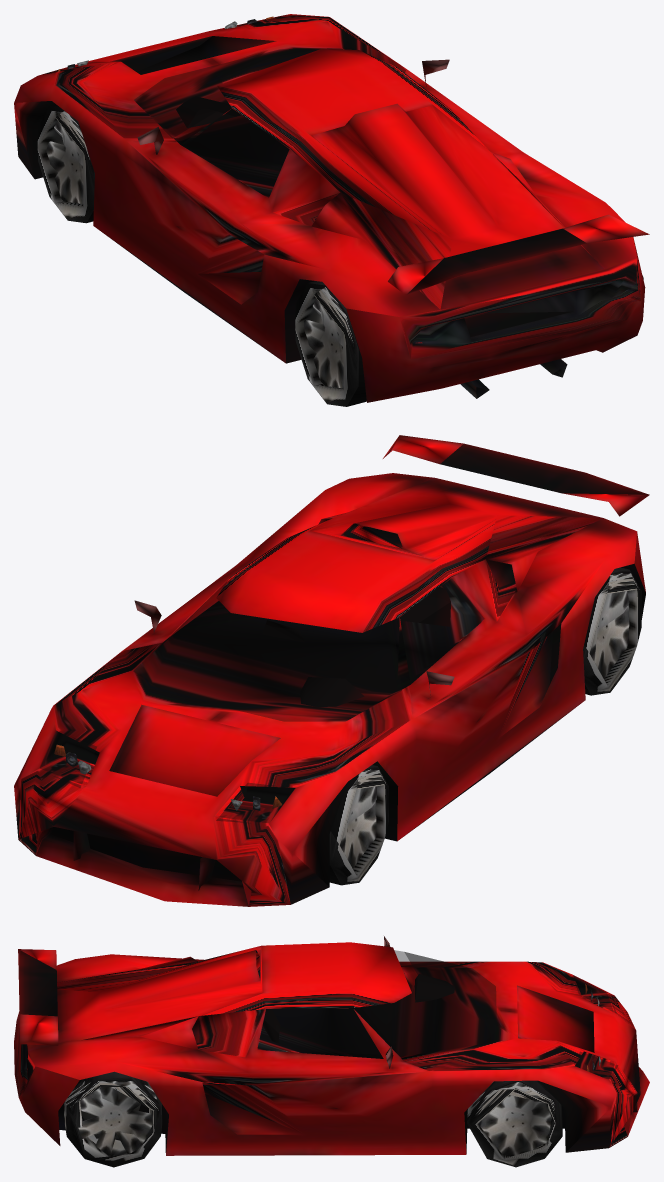
The model's file is c_sport_lo.glb.
3 renders of one model, top to bottom at view 1: azimuth 30°, elevation 25°; view 2: azimuth 150°, elevation 25°; view 3: azimuth 270°, elevation 25°, orthographic. The views are drawn at different scales.
Parts seen in each view (by area): view 1: body|Body_6, body|Wheel_5, body|glass; view 2: body|Body_6, body|glass, body|Wheel_5; view 3: body|Body_6, body|glass, body|Wheel_5.
Boxes of the visible parts, x1,y1,x2,y2 form: body|Body_6: (14,14,649,402); body|Wheel_5: (37,105,643,406); body|glass: (47,19,342,197); body|Body_6: (14,435,649,906); body|glass: (40,578,484,822); body|Wheel_5: (329,567,641,885); body|Body_6: (14,936,649,1155); body|glass: (258,950,617,1079); body|Wheel_5: (64,1071,562,1167).
Size of the model in its own units: 1.76 by 1.04 by 3.88.
Materials: 4 (3 with a texture image).
